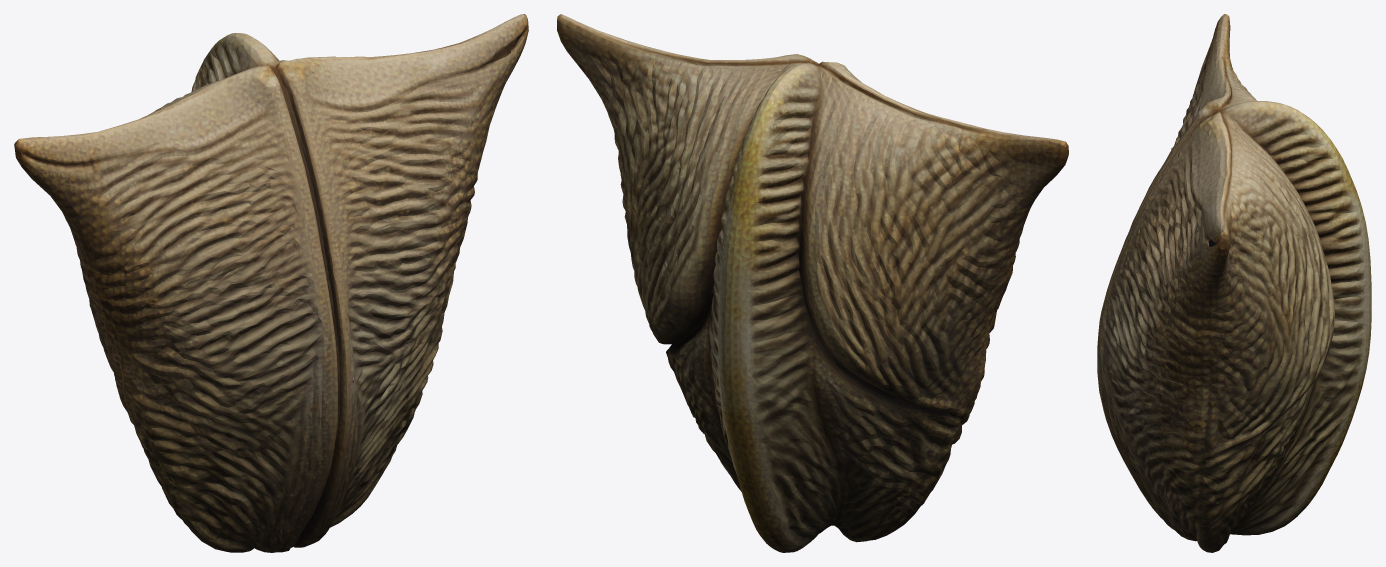
The picture shows the model from 3 angles, left to right: view 1: azimuth 30°, elevation 25°; view 2: azimuth 150°, elevation 25°; view 3: azimuth 270°, elevation 25°; orthographic projection. The views are drawn at different scales.
Parts seen in each view (by area): view 1: world; view 2: world; view 3: world.
Boxes of the visible parts, box(x1,y1,x2,y2) form: world: box(14, 14, 528, 552); world: box(557, 14, 1068, 552); world: box(1097, 14, 1371, 552).
Size of the model in its own units: 1 by 0.9061 by 0.521.
1 material, 1 textured.
